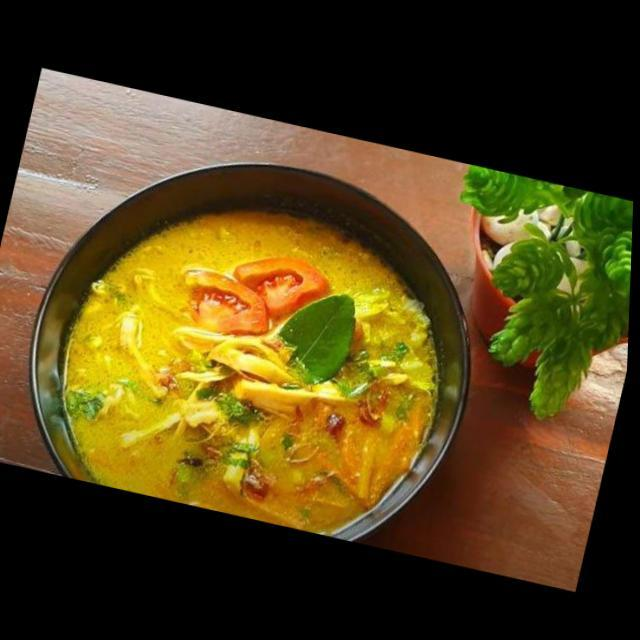Soto: (60, 204, 441, 535)
